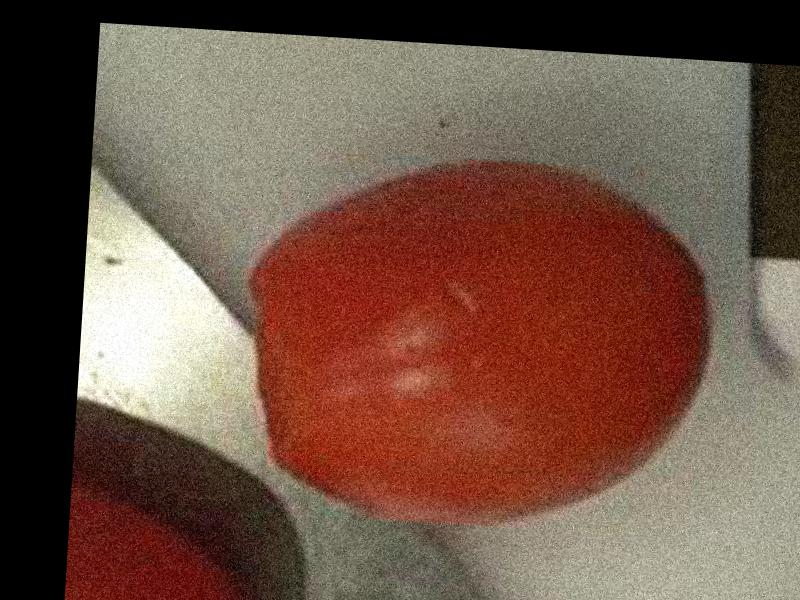Tomato: (236, 146, 720, 542)
